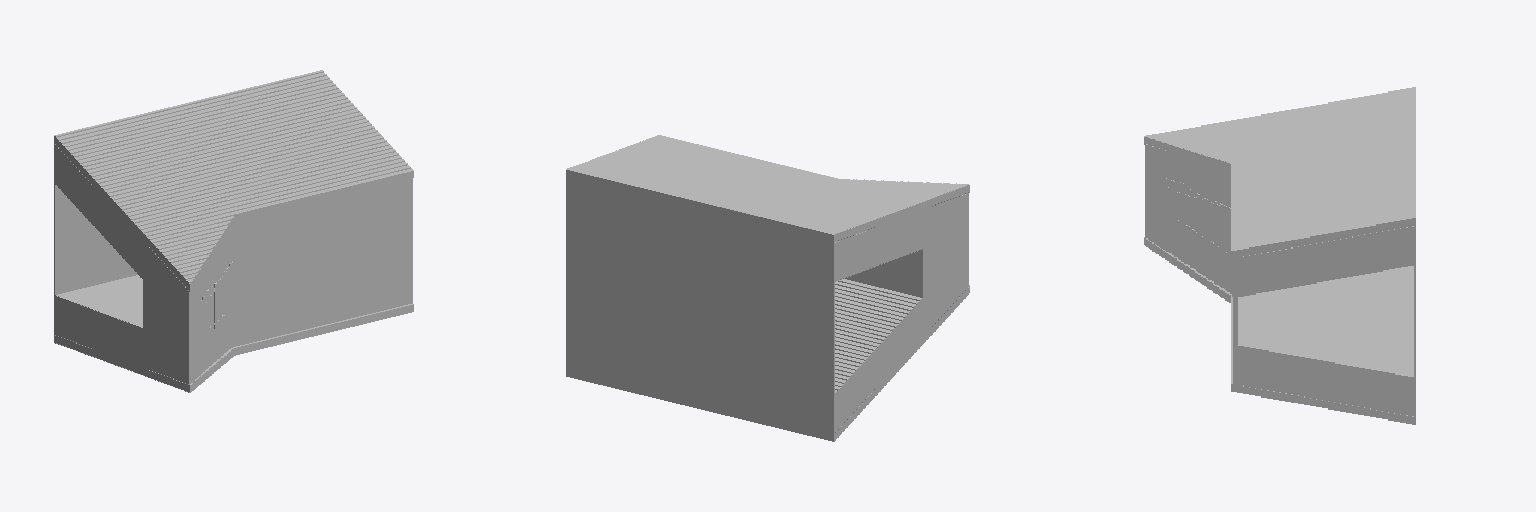
File: Space ship-22.obj
3 renders of one model, left to right at view 1: azimuth 30°, elevation 25°; view 2: azimuth 150°, elevation 25°; view 3: azimuth 270°, elevation 25°, orthographic.
Parts seen in each view (by area): view 1: object 1; view 2: object 1; view 3: object 1.
Part boxes in pixels (bbox=[...]): object 1: bbox=[54, 70, 413, 392]; object 1: bbox=[566, 135, 969, 441]; object 1: bbox=[1144, 87, 1415, 424].
Bounding box in the file's own units: 25.6 × 18.9 × 22.5.